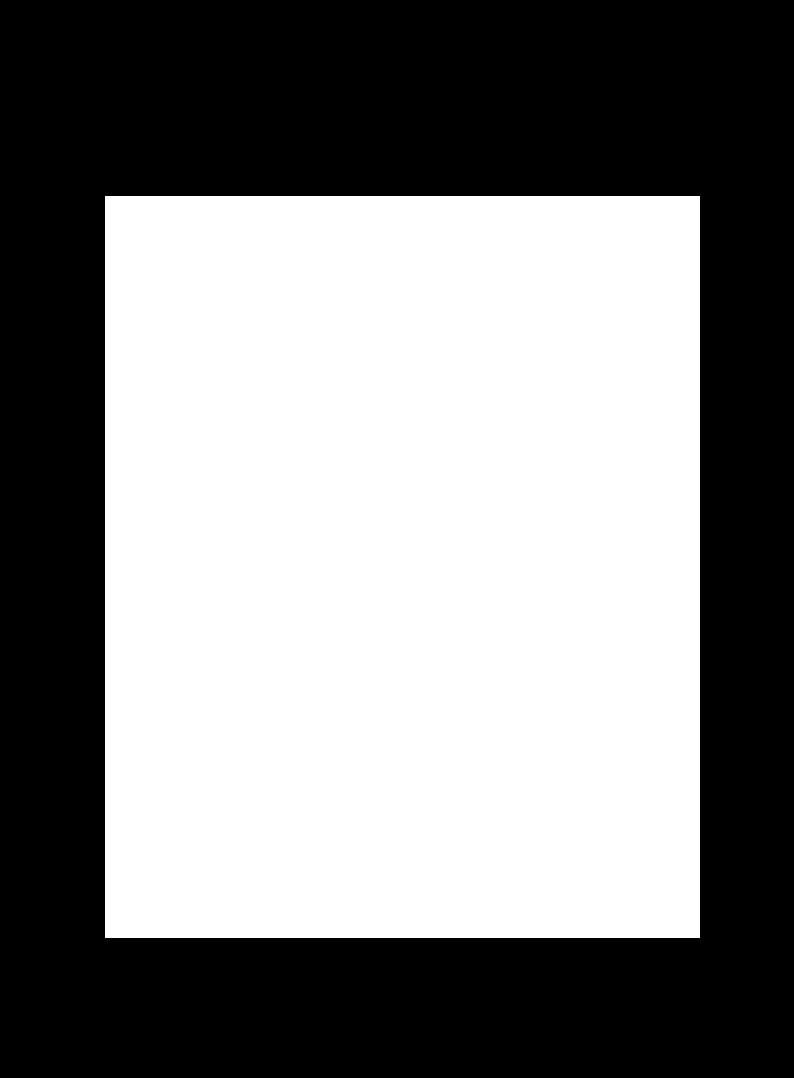table: (105, 196, 699, 937)
